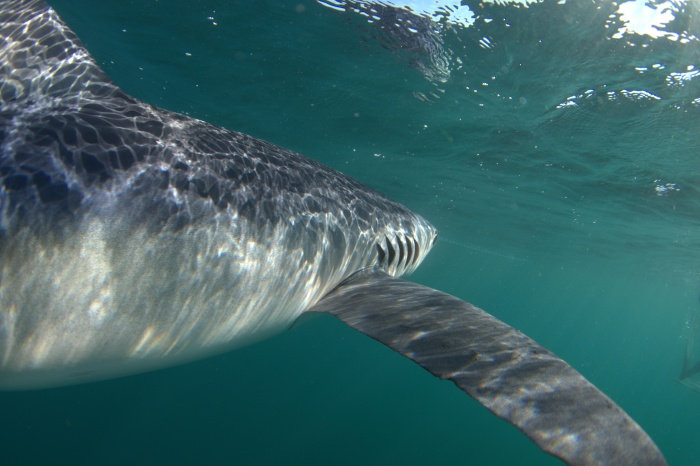Azul: (2, 1, 672, 461)
